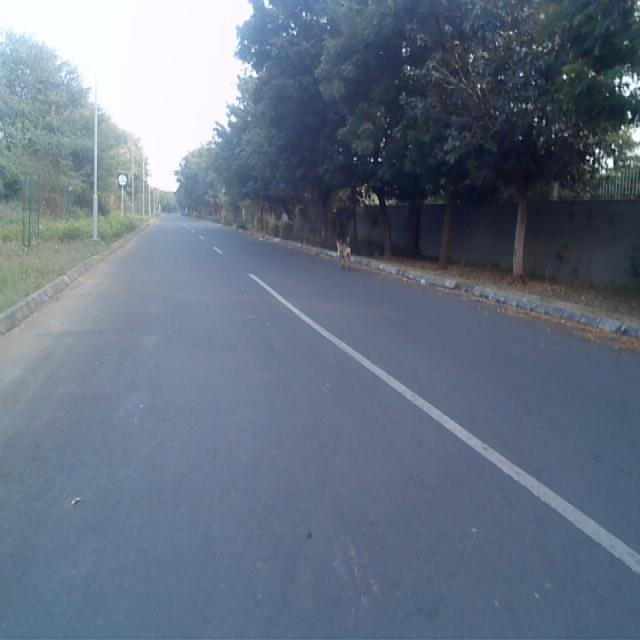lane: (0, 218, 640, 640)
